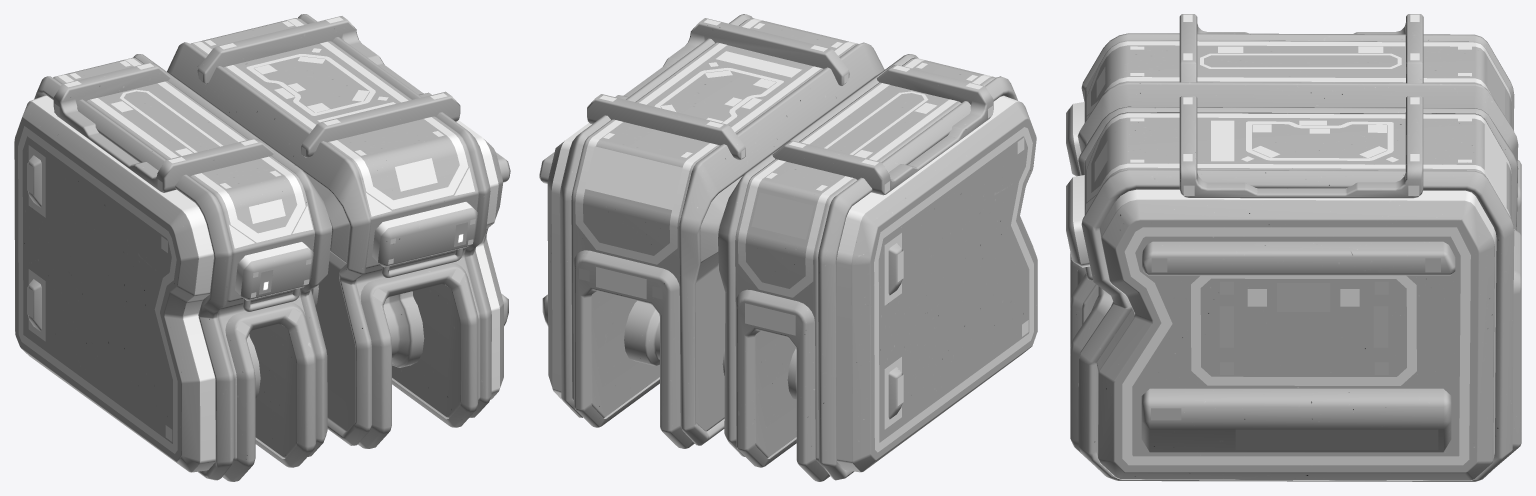
Rendered from SM_PistonBase_2_Merged.fbx.
The picture shows the model from 3 angles, left to right: view 1: azimuth 30°, elevation 25°; view 2: azimuth 150°, elevation 25°; view 3: azimuth 270°, elevation 25°; orthographic projection. The views are drawn at different scales.
Visible parts, largest first — view 1: SM_PistonBase_2_Merged_LOD0; view 2: SM_PistonBase_2_Merged_LOD0; view 3: SM_PistonBase_2_Merged_LOD0.
Part boxes in pixels (x1,y1,x2,y2): SM_PistonBase_2_Merged_LOD0: [14, 14, 510, 481]; SM_PistonBase_2_Merged_LOD0: [539, 14, 1037, 481]; SM_PistonBase_2_Merged_LOD0: [1066, 14, 1521, 481].
Size of the model in its own units: 283 by 292 by 232.
